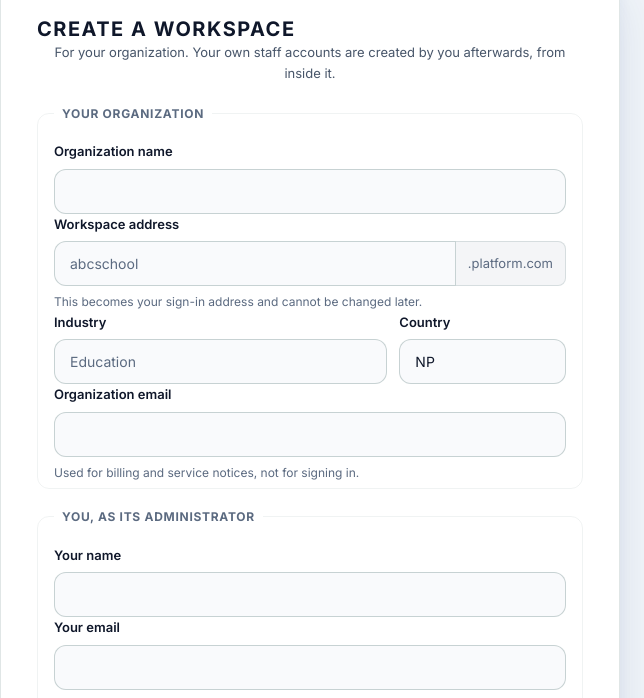
Test: the registration form › says so plainly when it has been rate limited
The width and height of the screenshot is (644, 698).
Type "New School" into the field labelled "Organization name" at (310, 191), box [54,169,566,214]
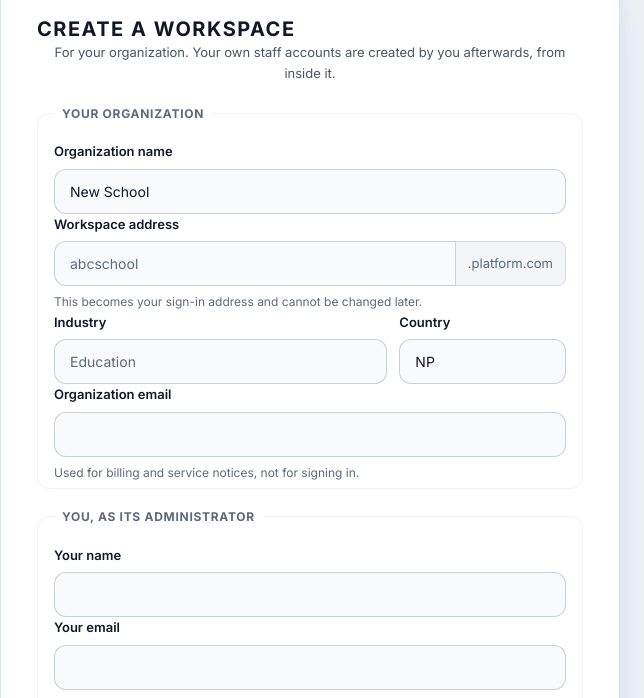
Type "office@newschool.test" into the field labelled "Organization email" at (310, 435), box [54,412,566,457]
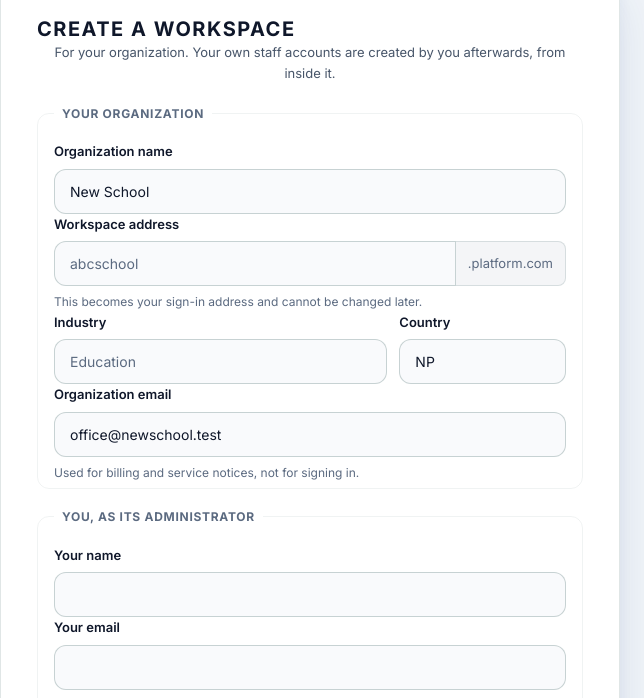
Type "head@newschool.test" into the field labelled "Your email" at (310, 668), box [54,645,566,690]
(page scrolled)
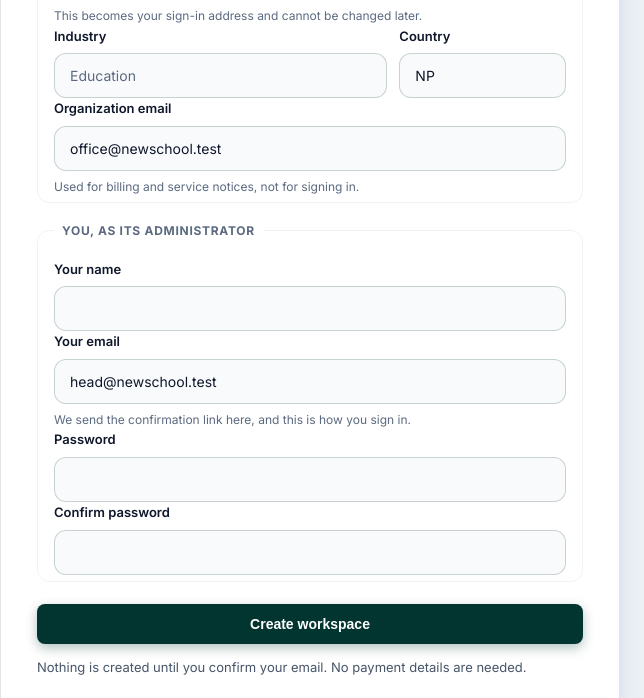
Type "Str0ng-Pass-2026" into the password field labelled "Password" at (310, 480), box [54,457,566,502]
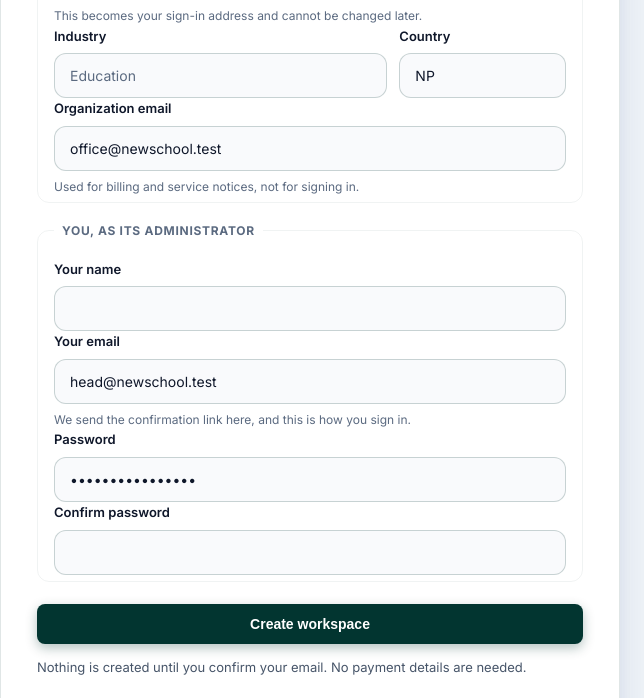
Type "Str0ng-Pass-2026" into the password field labelled "Confirm password" at (310, 552), box [54,530,566,575]
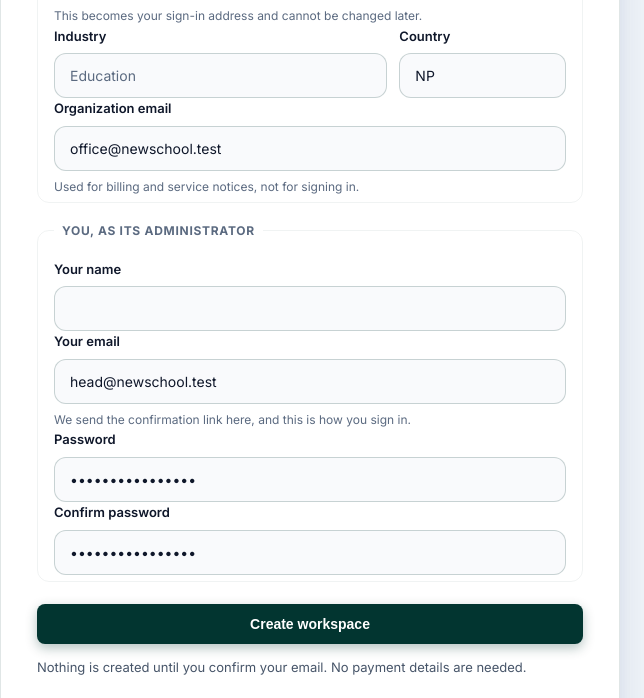
Click the button "Create workspace" at (310, 624), box [37,604,583,644]
(page scrolled)
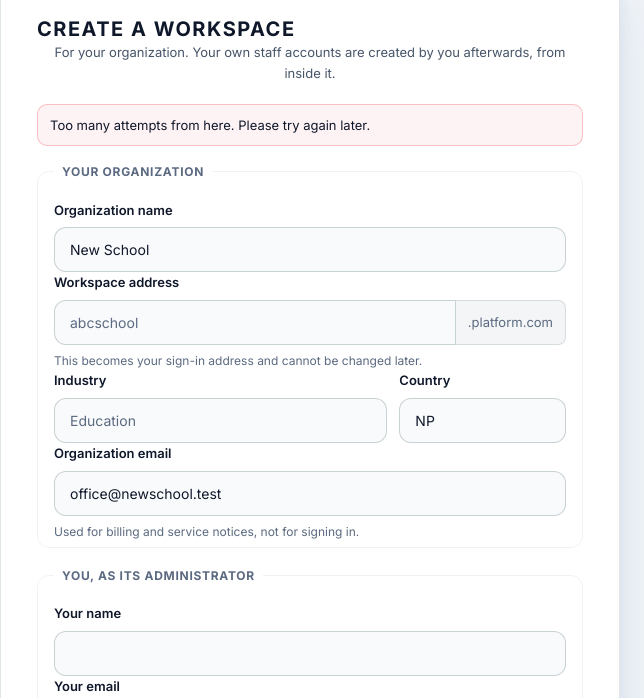
Expected: the text "Too many attempts from here. Please try again later." is shown, [37,104,583,146]
